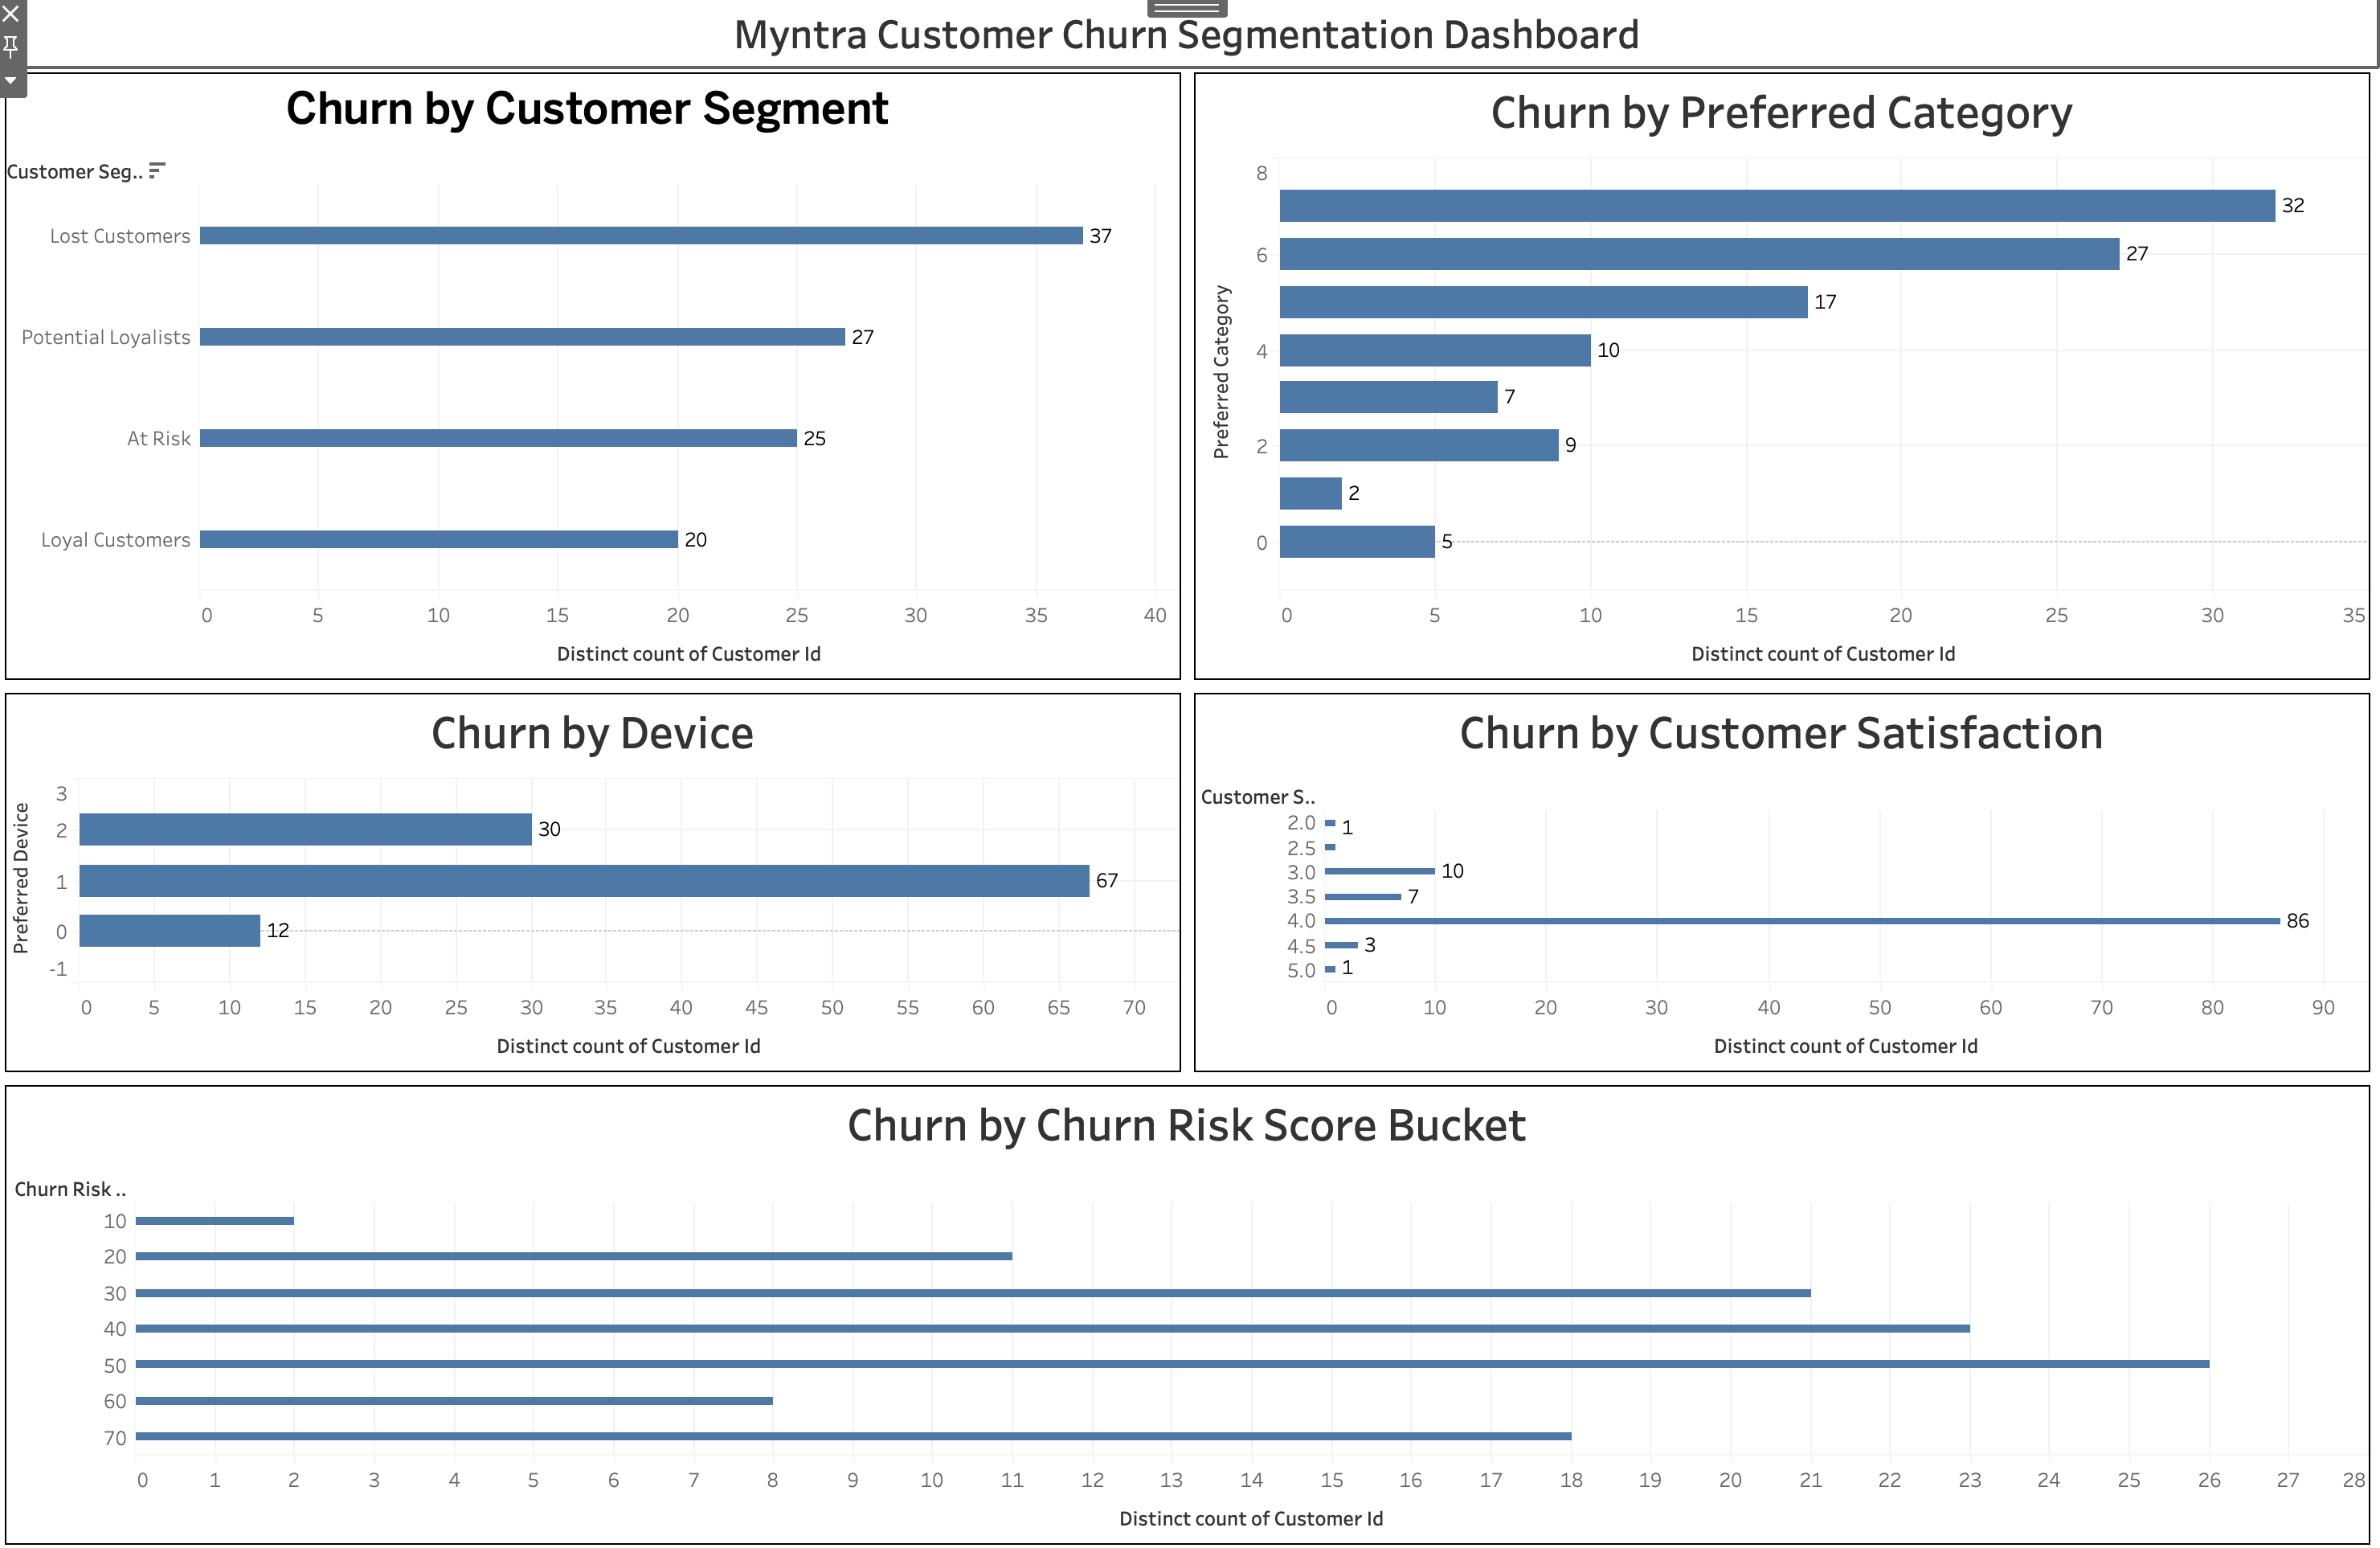

Layout of this report page (visuals, bound fields, positions):
{"tool":"tableau","page":{"name":"Myntra Customer Churn Segmentation Dashboard","canvas":[1000,1000],"units":"permille","ordinal":0},"visuals":[{"type":"title","box":[5.4,8.2,989.3,41.8]},{"type":"worksheet","title":"Churn By Customer Segment","mark":"Bar","rows":["customer_segment"],"cols":["customer_id"],"box":[5.4,49.9,494.7,393.4]},{"type":"worksheet","title":"Churn by Preferred Category","mark":"Bar","rows":["preferred_category"],"cols":["customer_id"],"box":[500,49.9,494.7,393.4]},{"type":"worksheet","title":"Churn by Device","mark":"Bar","rows":["preferred_device"],"cols":["customer_id"],"box":[5.4,443.3,494.7,248.9]},{"type":"worksheet","title":"Churn by Customer Satisfaction","mark":"Bar","rows":["Customer Satisfaction (bin)"],"cols":["customer_id"],"box":[500,443.3,494.7,248.9]},{"type":"worksheet","title":"Churn by Churn Risk Score Bucket","mark":"Automatic","rows":["Churn Risk Score (bin)"],"cols":["customer_id"],"box":[5.4,692.2,989.3,299.7]}]}

Visuals, with their boxes on the dashboard's canvas, which has no fixed pixel size, in thousandths of its width and height (x1, y1, x2, y2). These are canvas units, not pixel positions in the 2380x1548 screenshot, which may show the page scaled, cropped or inside an application window:
title: x1=5, y1=8, x2=995, y2=50
"Churn By Customer Segment" worksheet (Bar marks): x1=5, y1=50, x2=500, y2=443
"Churn by Preferred Category" worksheet (Bar marks): x1=500, y1=50, x2=995, y2=443
"Churn by Device" worksheet (Bar marks): x1=5, y1=443, x2=500, y2=692
"Churn by Customer Satisfaction" worksheet (Bar marks): x1=500, y1=443, x2=995, y2=692
"Churn by Churn Risk Score Bucket" worksheet: x1=5, y1=692, x2=995, y2=992
